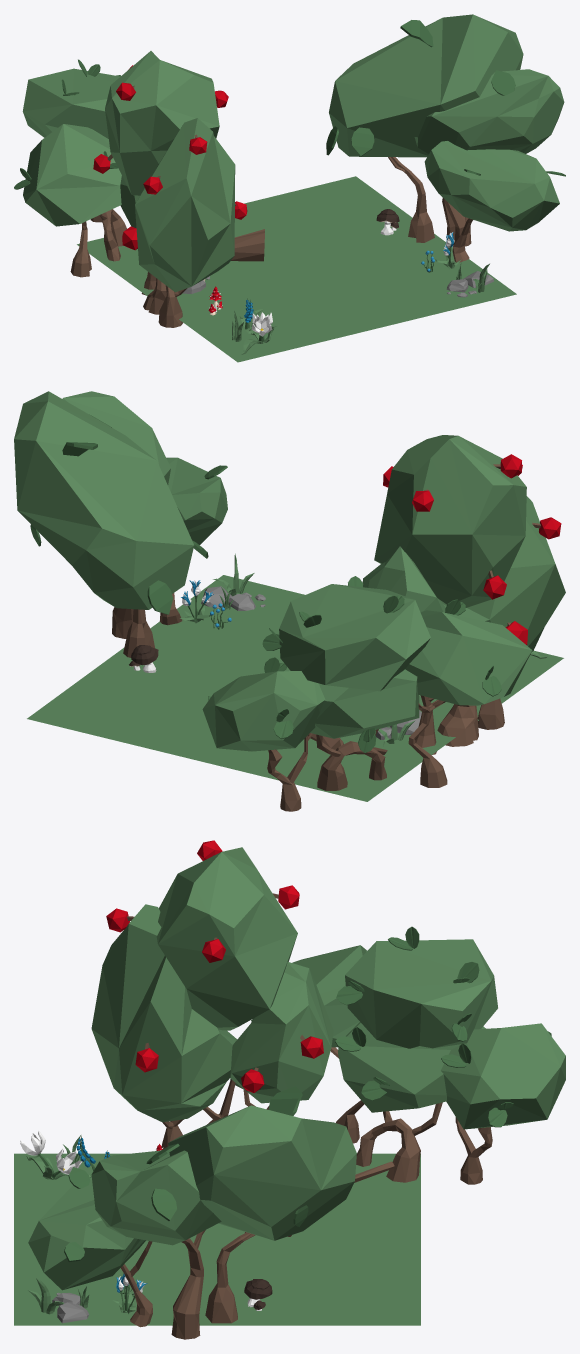
Rendered from LeftTop.fbx.
The picture shows the model from 3 angles, top to bottom: view 1: azimuth 30°, elevation 25°; view 2: azimuth 150°, elevation 25°; view 3: azimuth 270°, elevation 25°; orthographic projection. The views are drawn at different scales.
Visible parts, largest first — view 1: stones_1.003; view 2: stones_1.003; view 3: stones_1.003.
Boxes of the visible parts, bbox=[...] form: stones_1.003: bbox=[14, 14, 565, 362]; stones_1.003: bbox=[14, 391, 565, 811]; stones_1.003: bbox=[14, 840, 565, 1339].
Size of the model in its own units: 3.29 by 1.72 by 2.71.
